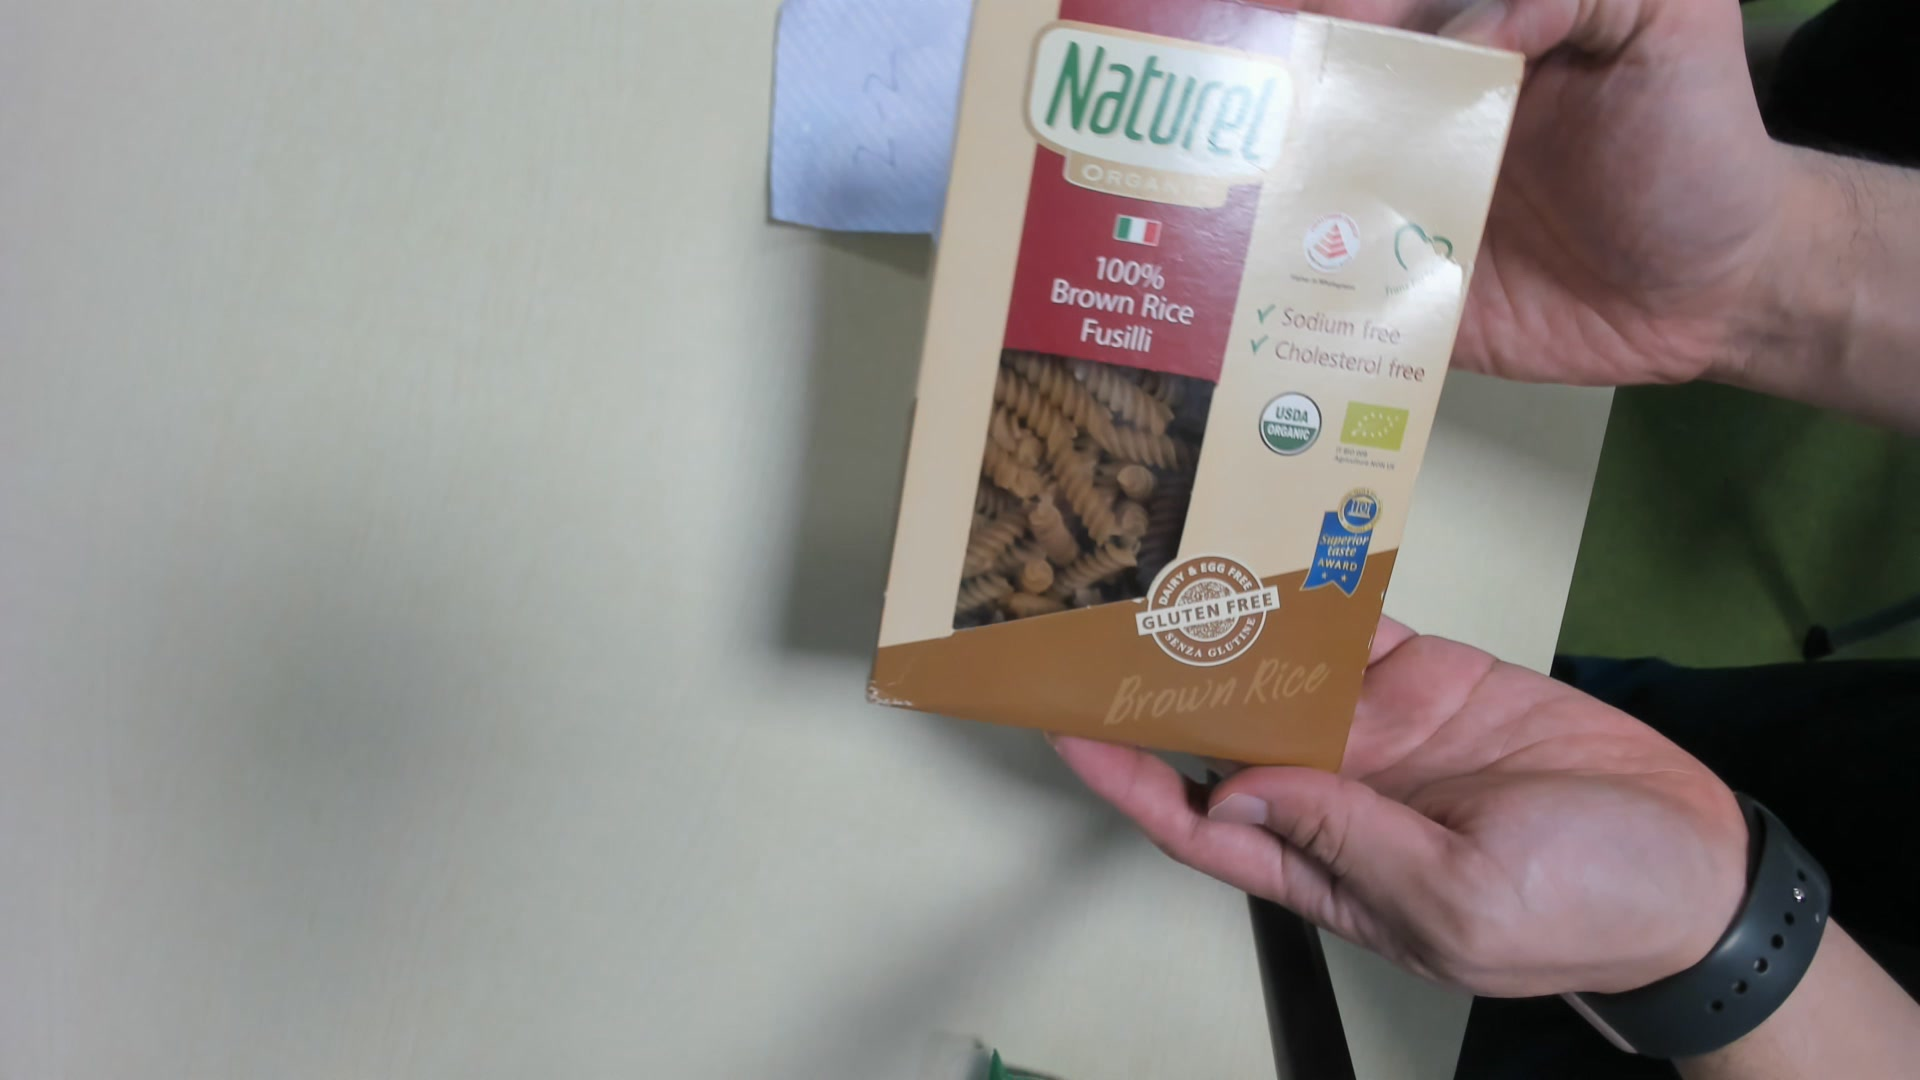Pasta_200-299g_Halal_Healthy: (872, 1, 1535, 774)
